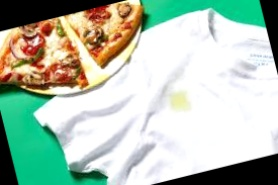oil: (162, 83, 194, 115)
